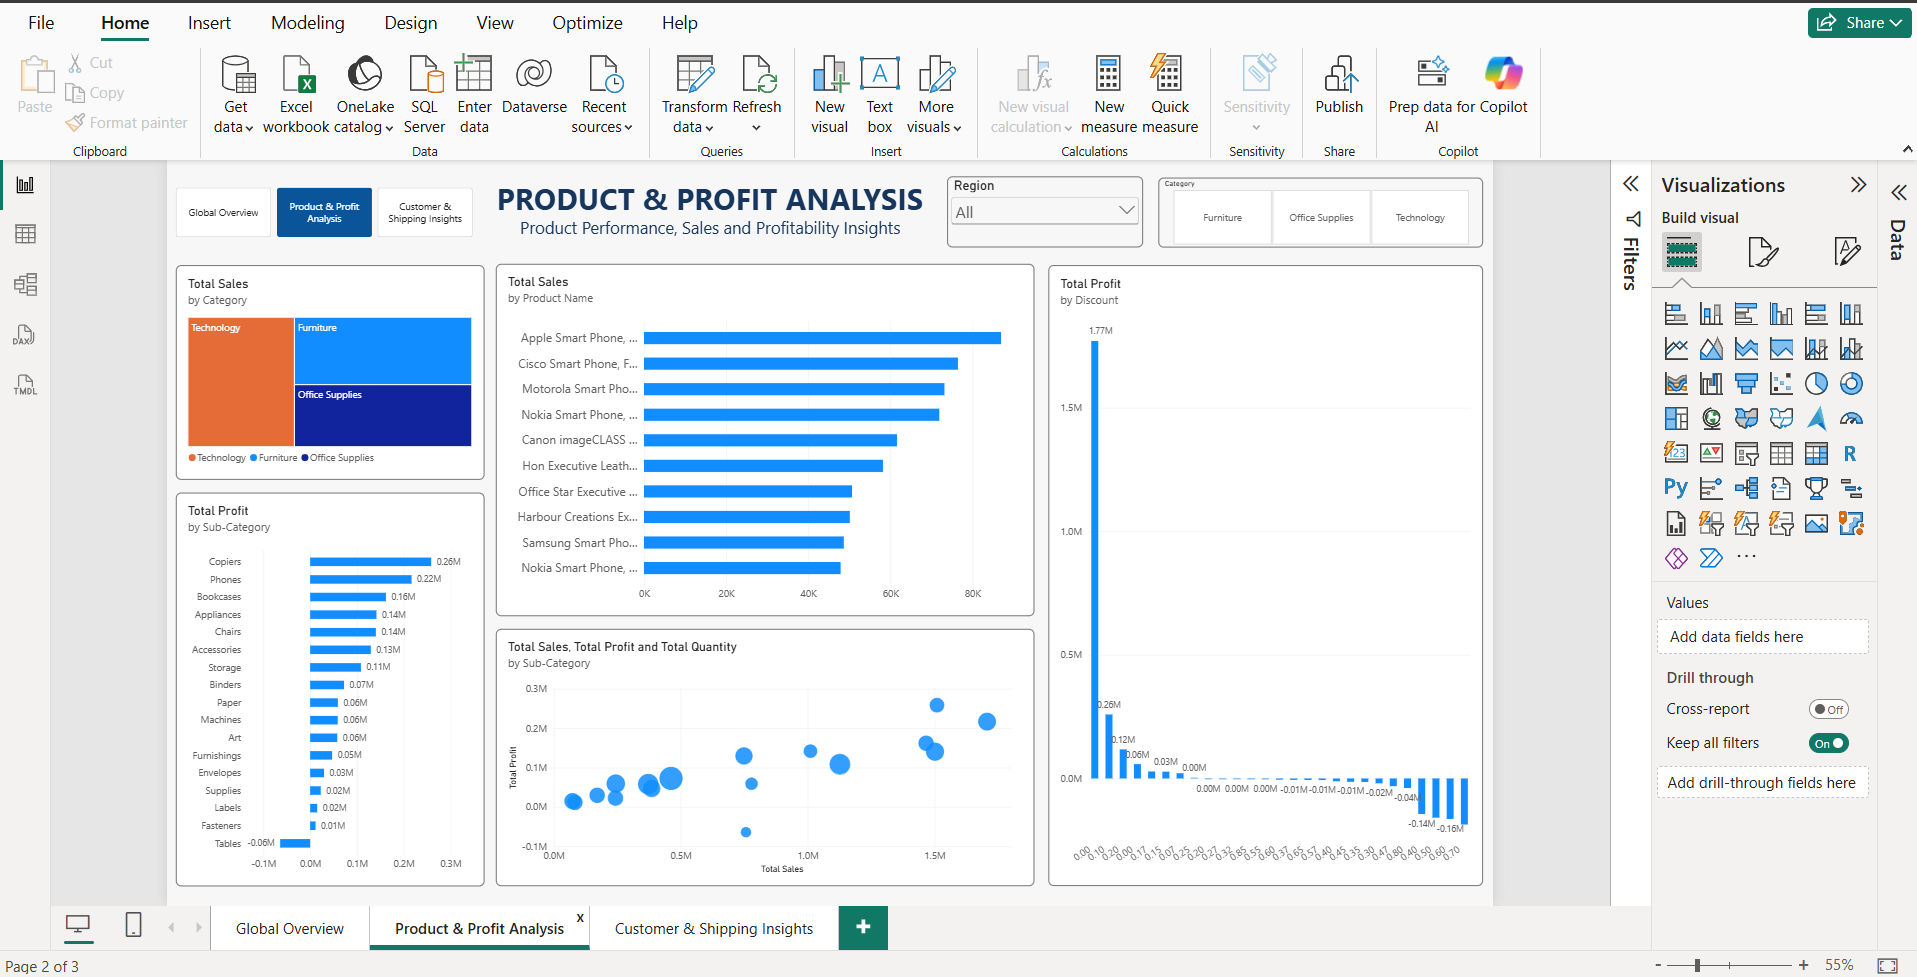

What the dashboard file says about the page in this screenshot:
{"tool":"powerbi","page":{"name":"Product & Profit Analysis","canvas":[1920,1080],"ordinal":1},"visuals":[{"type":"treemap","fields":{"Group":["Orders.Category"],"Values":["Orders.Total Sales"]},"box":[12.7,152,447,311.3],"z":0},{"type":"clusteredBarChart","fields":{"Category":["Orders.Sub-Category"],"Y":["Orders.Total Profit"]},"box":[12.7,481.4,447,570],"z":1},{"type":"scatterChart","fields":{"Category":["Orders.Sub-Category"],"Size":["Orders.Total Quantity"],"X":["Orders.Total Sales"],"Y":["Orders.Total Profit"]},"box":[475.9,678.6,780,372.8],"z":2},{"type":"clusteredColumnChart","fields":{"Category":["Orders.Discount"],"Y":["Orders.Total Profit"]},"box":[1275.8,152,629.8,899.4],"z":3},{"type":"clusteredBarChart","fields":{"Category":["Orders.Product Name"],"Y":["Orders.Total Sales"]},"box":[475.9,150.2,780.1,510.5],"z":4},{"type":"slicer","fields":{"Values":["Orders.Category"]},"box":[1435.1,25.3,470.5,101.3],"z":5},{"type":"slicer","fields":{"Values":["Orders.Region"]},"box":[1129.2,23.5,284.1,103.2],"z":6},{"type":"textbox","box":[443.4,25.3,685.9,103.2],"z":7},{"type":"pageNavigator","box":[12.7,39.8,430.7,72.4],"z":8}]}

Visuals, with their boxes on the page's 1920x1080 design canvas (x1, y1, x2, y2). These are canvas units, not pixel positions in the 1917x977 screenshot, which may show the page scaled, cropped or inside an application window:
treemap - Orders.Category x Orders.Total Sales: {"x1": 13, "y1": 152, "x2": 460, "y2": 463}
clusteredBarChart - Orders.Sub-Category x Orders.Total Profit: {"x1": 13, "y1": 481, "x2": 460, "y2": 1051}
scatterChart - Orders.Sub-Category x Orders.Total Quantity: {"x1": 476, "y1": 679, "x2": 1256, "y2": 1051}
clusteredColumnChart - Orders.Discount x Orders.Total Profit: {"x1": 1276, "y1": 152, "x2": 1906, "y2": 1051}
clusteredBarChart - Orders.Product Name x Orders.Total Sales: {"x1": 476, "y1": 150, "x2": 1256, "y2": 661}
slicer - Orders.Category: {"x1": 1435, "y1": 25, "x2": 1906, "y2": 127}
slicer - Orders.Region: {"x1": 1129, "y1": 24, "x2": 1413, "y2": 127}
textbox: {"x1": 443, "y1": 25, "x2": 1129, "y2": 128}
pageNavigator: {"x1": 13, "y1": 40, "x2": 443, "y2": 112}
